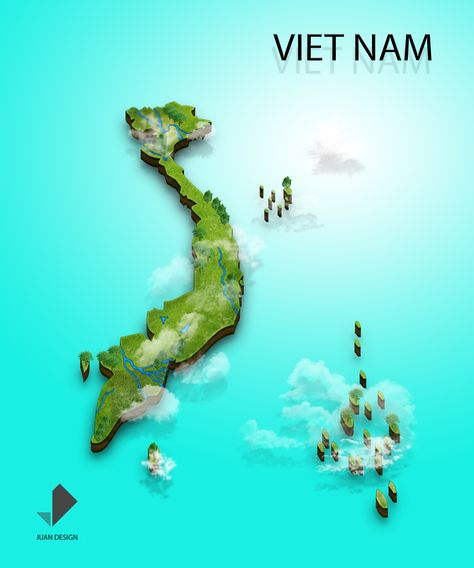Island: (316, 316, 406, 525), (253, 176, 303, 227)
